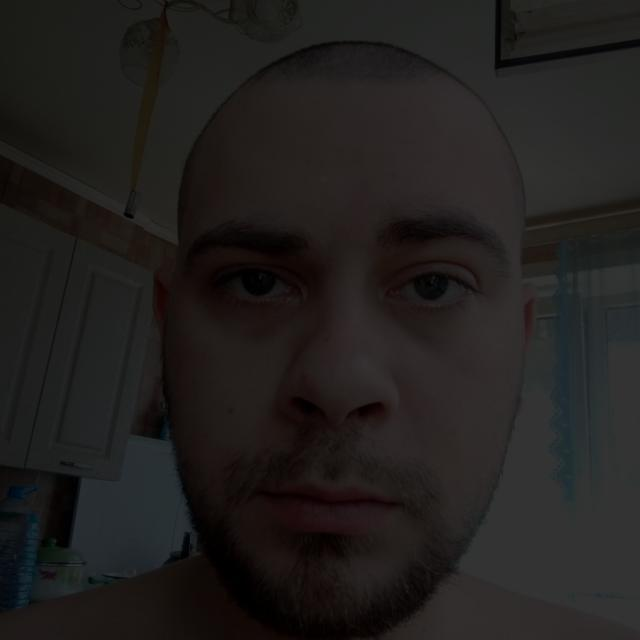Natural: (163, 85, 536, 619)
